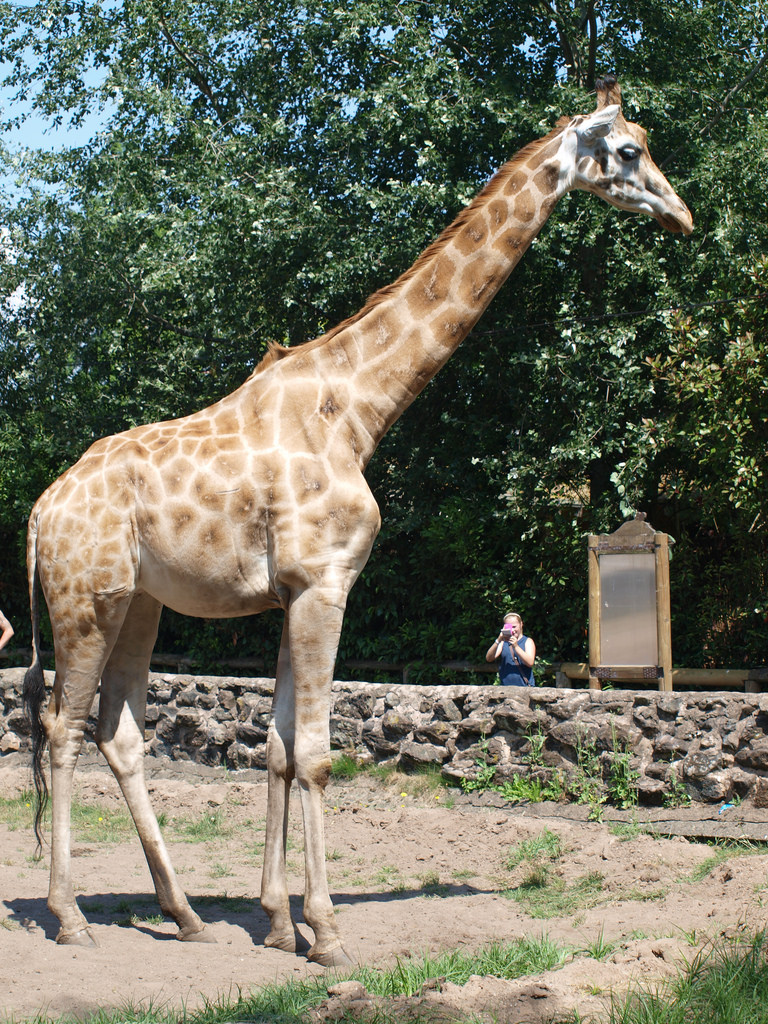giraffe: (40, 60, 716, 983)
